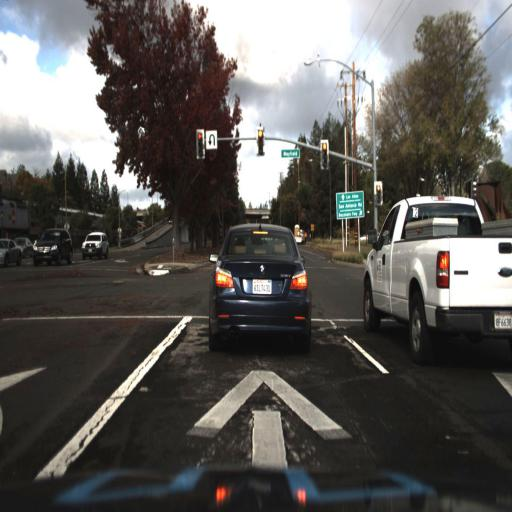car: (358, 196, 511, 354), (208, 220, 313, 350), (31, 227, 74, 267), (78, 230, 112, 260), (0, 239, 23, 270), (0, 236, 21, 267)
trafficLight-Red: (373, 178, 386, 214), (254, 125, 266, 156), (320, 138, 330, 170), (374, 182, 383, 207)
trafficLight-RedLeft: (194, 126, 207, 168), (194, 129, 204, 160)
